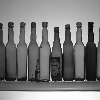beer: (38, 19, 51, 82)
